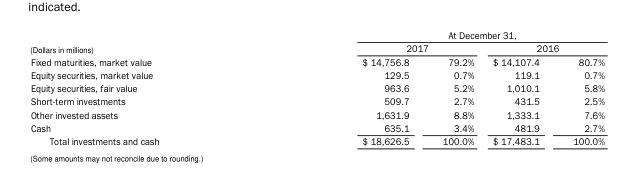table: (29, 28, 604, 146)
table column: (29, 28, 260, 146), (260, 28, 425, 146), (482, 28, 555, 146), (425, 28, 482, 146), (555, 28, 604, 146)
table column header: (29, 28, 604, 67)
table row: (29, 67, 604, 81), (29, 120, 604, 134), (29, 28, 604, 41), (29, 41, 604, 54), (29, 54, 604, 67), (29, 81, 604, 94), (29, 94, 604, 107), (29, 107, 604, 120), (29, 134, 604, 146)
table spanning cell: (29, 28, 260, 67), (260, 28, 604, 41), (260, 41, 482, 54), (482, 41, 604, 54)
